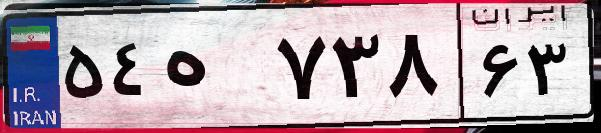3: (330, 28, 385, 110), (525, 38, 570, 115)
4: (110, 28, 158, 98)
5: (57, 26, 110, 100)
6: (475, 38, 525, 113)
7: (270, 28, 330, 110)
8: (385, 28, 445, 110)
ه: (158, 20, 270, 120)
